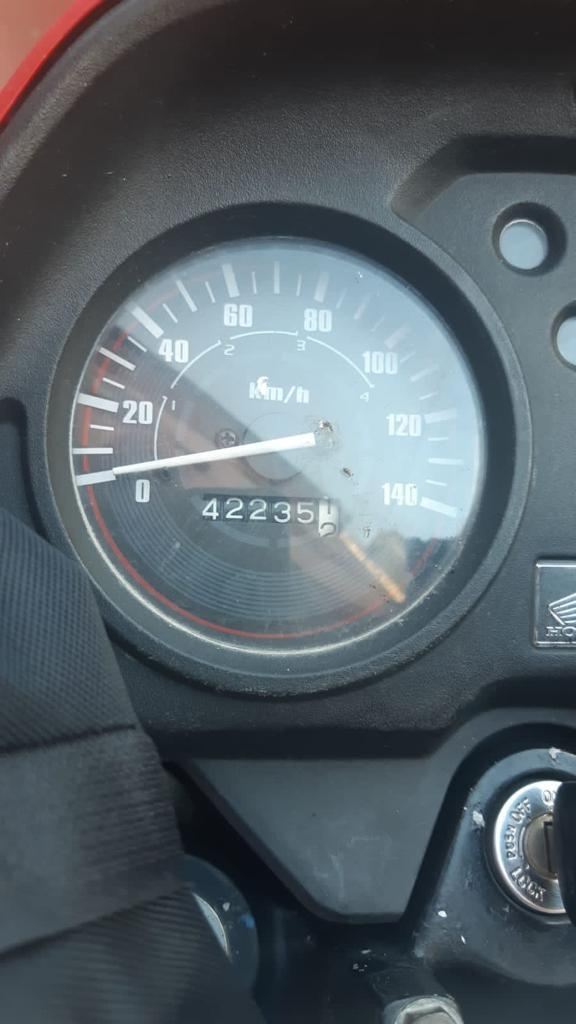1: (326, 498, 331, 514)
2: (224, 497, 243, 518), (249, 498, 267, 520), (320, 521, 337, 541)
3: (273, 501, 290, 523)
4: (201, 496, 219, 519)
5: (296, 501, 314, 523)
odometer: (198, 491, 342, 539)
